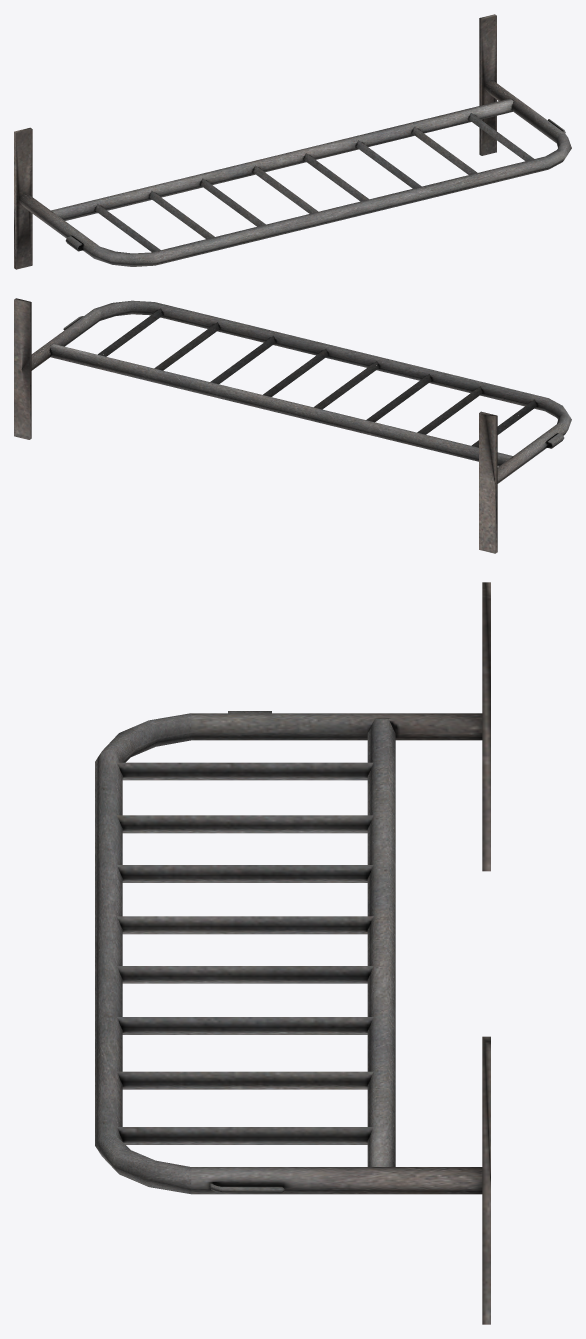
File: barrier_metal.fbx
3 renders of one model, top to bottom at view 1: azimuth 30°, elevation 25°; view 2: azimuth 150°, elevation 25°; view 3: azimuth 270°, elevation 25°, orthographic. The views are drawn at different scales.
Visible parts, largest first — view 1: barrier_metal; view 2: barrier_metal; view 3: barrier_metal.
Part boxes in pixels (x1,y1,x2,y2): barrier_metal: (14, 14, 571, 269); barrier_metal: (14, 298, 571, 553); barrier_metal: (95, 582, 490, 1324).
Size of the model in its own units: 3.04 by 0.814 by 1.07.
